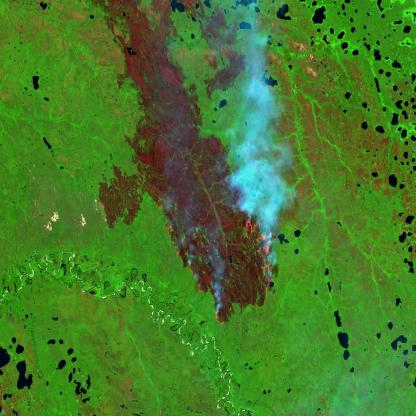fire: (160, 196, 279, 336)
